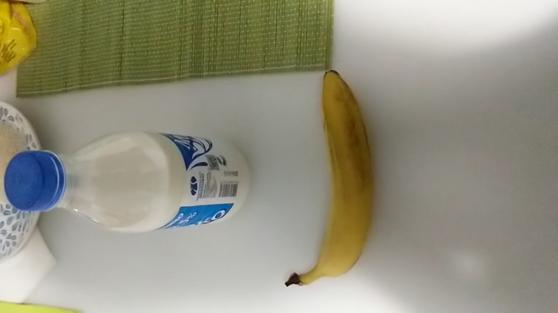banana: (290, 58, 374, 304)
milk: (1, 132, 262, 231)
